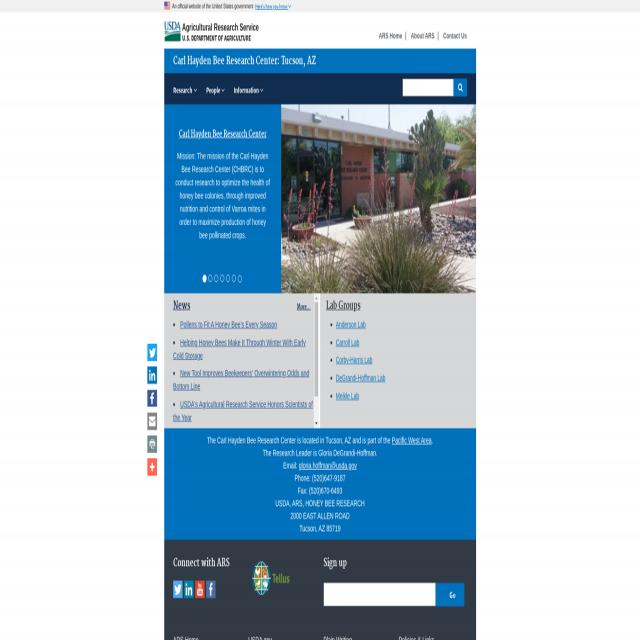button: (252, 562, 290, 595), (230, 79, 268, 105), (169, 79, 201, 105), (202, 79, 229, 105), (436, 583, 464, 606), (314, 304, 318, 397), (164, 21, 181, 41), (453, 79, 467, 97), (147, 458, 157, 476), (173, 580, 183, 598), (184, 580, 194, 598), (195, 580, 205, 598), (206, 580, 216, 598), (147, 344, 157, 361), (147, 390, 157, 407), (147, 413, 157, 430), (147, 436, 157, 452), (147, 367, 156, 384), (164, 0, 170, 11), (314, 294, 320, 304), (314, 418, 319, 429), (202, 274, 207, 284), (208, 274, 213, 283), (220, 274, 224, 283), (214, 274, 218, 283), (232, 274, 236, 283), (238, 275, 242, 284), (226, 274, 230, 282)
field: (324, 582, 436, 606), (402, 79, 453, 97)
